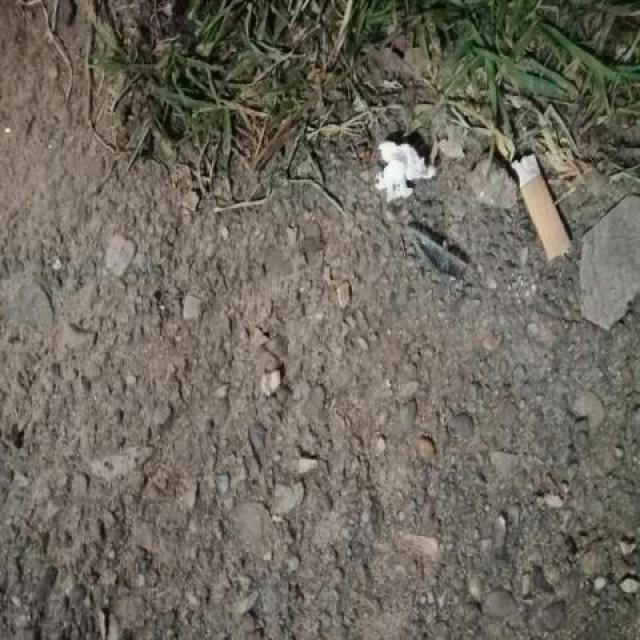non-organic waste: (505, 147, 575, 266)
